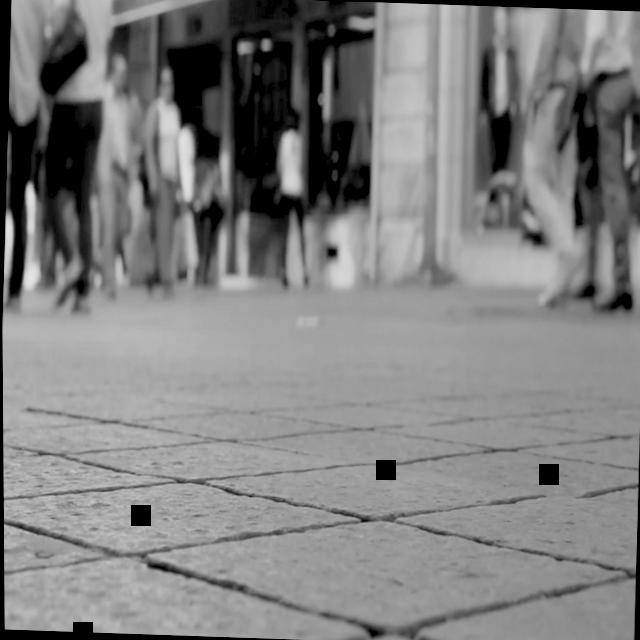NO-Mask: (112, 63, 127, 93), (160, 74, 174, 102)
